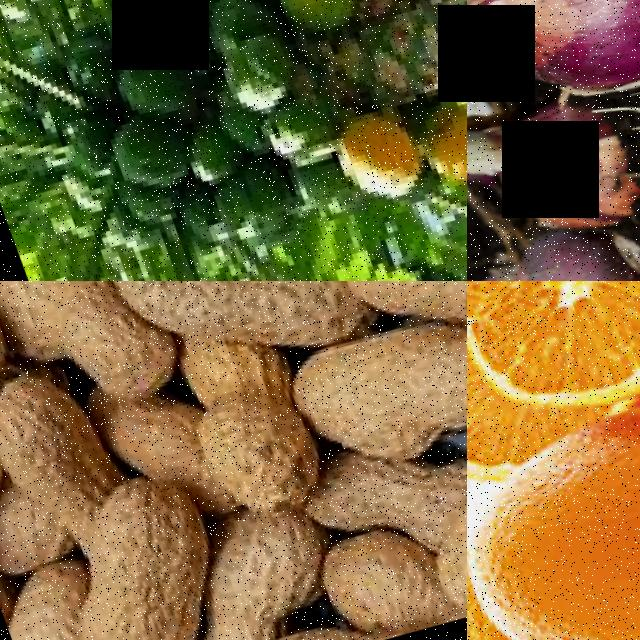onion: (467, 0, 640, 117)
orange: (467, 393, 640, 640), (467, 281, 640, 421)
pawpaw: (312, 110, 422, 214), (199, 27, 300, 116), (86, 110, 187, 198), (97, 41, 196, 124), (396, 99, 467, 195), (129, 0, 213, 67), (258, 0, 367, 45)
peanuts: (269, 303, 467, 470), (162, 343, 318, 523), (91, 281, 358, 374), (25, 513, 210, 640), (156, 503, 321, 640), (0, 358, 110, 534), (392, 445, 467, 624), (0, 281, 95, 376), (331, 281, 467, 338)
